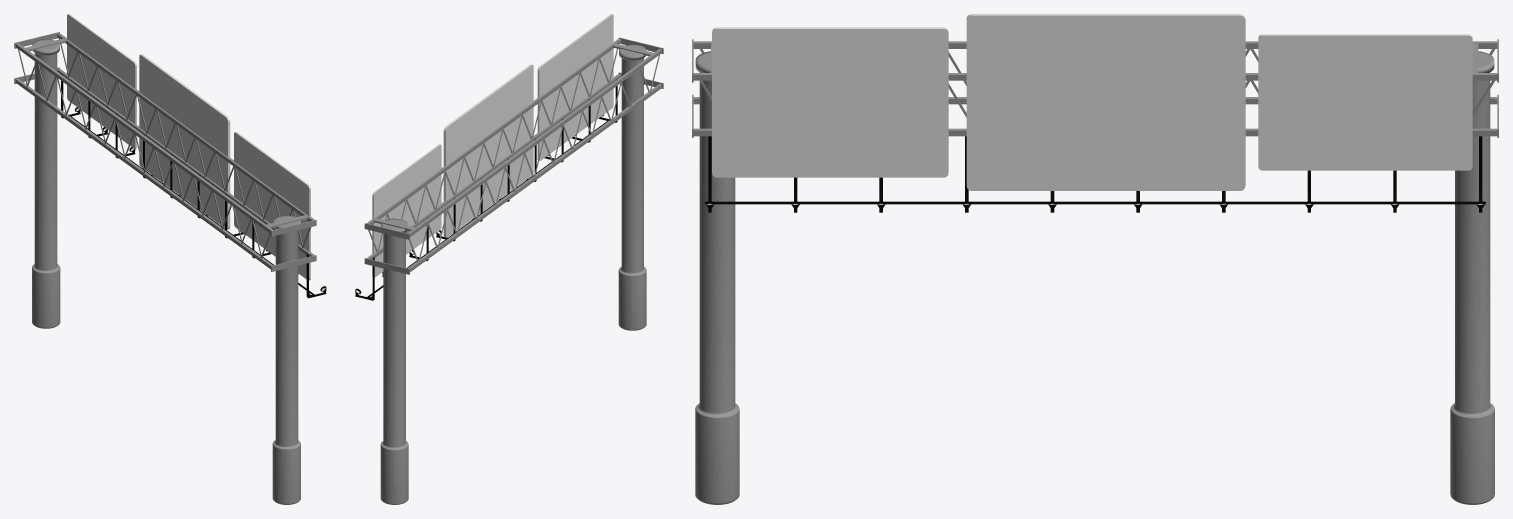
The model's file is HighwaySignBoard_Up_Left_Right.fbx.
The picture shows the model from 3 angles, left to right: view 1: azimuth 30°, elevation 25°; view 2: azimuth 150°, elevation 25°; view 3: azimuth 270°, elevation 25°; orthographic projection. The views are drawn at different scales.
Parts seen in each view (by area): view 1: Cube.002, Cube, Cube.005, Cube.009; view 2: Cube.002, Cube, Cube.005, Cube.009; view 3: Cube, Cube.002, Cube.005, Cube.009.
Boxes of the visible parts, x1=… form: Cube.002: x1=14, y1=32, x2=326, y2=504; Cube: x1=139, y1=54, x2=230, y2=229; Cube.005: x1=234, y1=132, x2=310, y2=280; Cube.009: x1=67, y1=14, x2=136, y2=148; Cube.002: x1=355, y1=37, x2=663, y2=504; Cube: x1=443, y1=64, x2=533, y2=237; Cube.005: x1=537, y1=14, x2=613, y2=160; Cube.009: x1=372, y1=144, x2=441, y2=277; Cube: x1=966, y1=14, x2=1245, y2=190; Cube.002: x1=692, y1=39, x2=1498, y2=504; Cube.005: x1=712, y1=27, x2=948, y2=177; Cube.009: x1=1258, y1=34, x2=1472, y2=170.
Size of the model in its own units: 997 by 135 by 679.
Materials: 6 (1 with a texture image).
